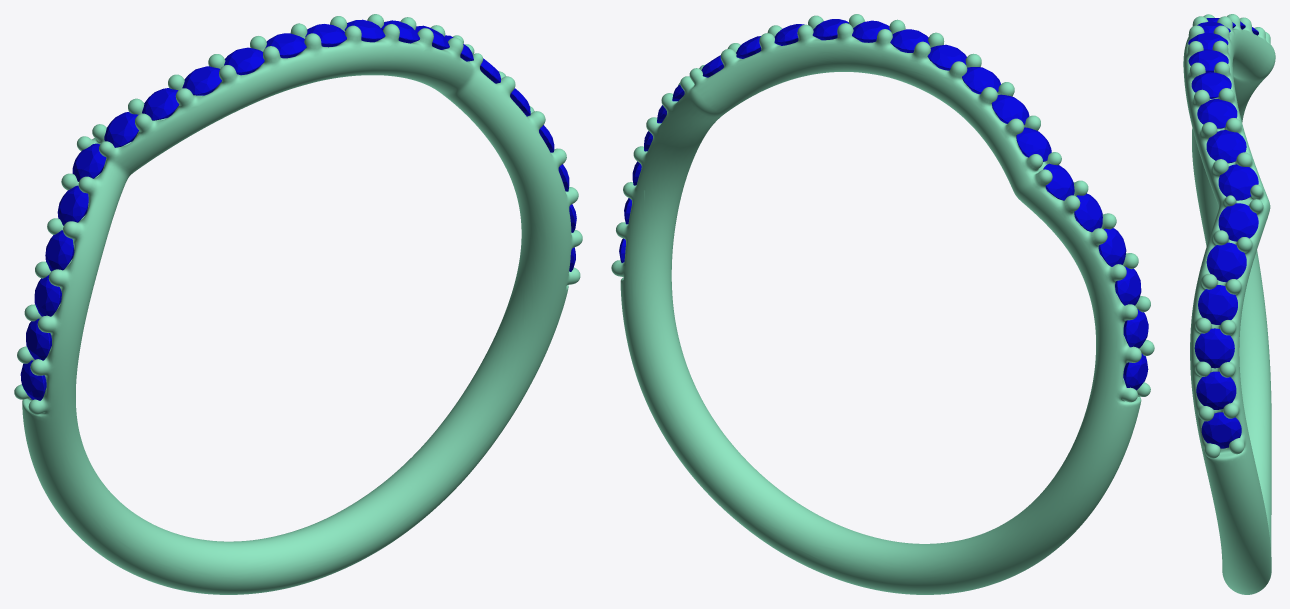
3 renders of one model, left to right at view 1: azimuth 30°, elevation 25°; view 2: azimuth 150°, elevation 25°; view 3: azimuth 270°, elevation 25°, orthographic. The views are drawn at different scales.
Visible parts, largest first — view 1: Metal03, Diamond_Band.006, Diamond_Band.007, Diamond_Band.004, Diamond_Band.003, Diamond_Band.005, Diamond_Band.002, Diamond_Band.008, Diamond_Band.001, Diamond_Band.009; view 2: Metal03, Diamond_Band.006, Diamond_Band.004, Diamond_Band.003, Diamond_Band.007, Diamond_Band.005, Diamond_Band.008, Diamond_Band.002, Diamond_Band.009; view 3: Metal03, Diamond_Band.015, Diamond_Band.013, Diamond_Band.014, Diamond_Band.012, Diamond_Band.016, Diamond_Band.017, Diamond_Band.011, Diamond_Band.018, Diamond_Band.019, Diamond_Band.020, Diamond_Band.021 (+2 smaller).
Boxes of the visible parts, bbox=[...] form: Metal03: bbox=[14, 14, 582, 594]; Diamond_Band.006: bbox=[57, 185, 88, 225]; Diamond_Band.007: bbox=[45, 230, 74, 271]; Diamond_Band.004: bbox=[104, 112, 138, 147]; Diamond_Band.003: bbox=[142, 88, 179, 120]; Diamond_Band.005: bbox=[72, 143, 106, 181]; Diamond_Band.002: bbox=[182, 66, 221, 95]; Diamond_Band.008: bbox=[34, 275, 61, 316]; Diamond_Band.001: bbox=[224, 47, 264, 75]; Diamond_Band.009: bbox=[26, 318, 51, 360]; Metal03: bbox=[611, 14, 1154, 594]; Diamond_Band.006: bbox=[1074, 193, 1102, 232]; Diamond_Band.004: bbox=[1016, 127, 1051, 161]; Diamond_Band.003: bbox=[991, 94, 1029, 124]; Diamond_Band.007: bbox=[1098, 228, 1126, 266]; Diamond_Band.005: bbox=[1043, 163, 1074, 200]; Diamond_Band.008: bbox=[1115, 266, 1141, 305]; Diamond_Band.002: bbox=[962, 67, 1000, 94]; Diamond_Band.009: bbox=[1123, 309, 1148, 348]; Metal03: bbox=[1183, 14, 1275, 594]; Diamond_Band.015: bbox=[1206, 242, 1246, 282]; Diamond_Band.013: bbox=[1194, 328, 1234, 368]; Diamond_Band.014: bbox=[1198, 285, 1237, 324]; Diamond_Band.012: bbox=[1196, 371, 1236, 409]; Diamond_Band.016: bbox=[1218, 203, 1258, 241]; Diamond_Band.017: bbox=[1218, 164, 1258, 200]; Diamond_Band.011: bbox=[1201, 412, 1241, 448]; Diamond_Band.018: bbox=[1206, 130, 1246, 163]; Diamond_Band.019: bbox=[1197, 99, 1237, 128]; Diamond_Band.020: bbox=[1191, 72, 1231, 98]; Diamond_Band.021: bbox=[1188, 49, 1228, 72].
Size of the model in its own units: 21.18 by 21.02 by 3.33.
